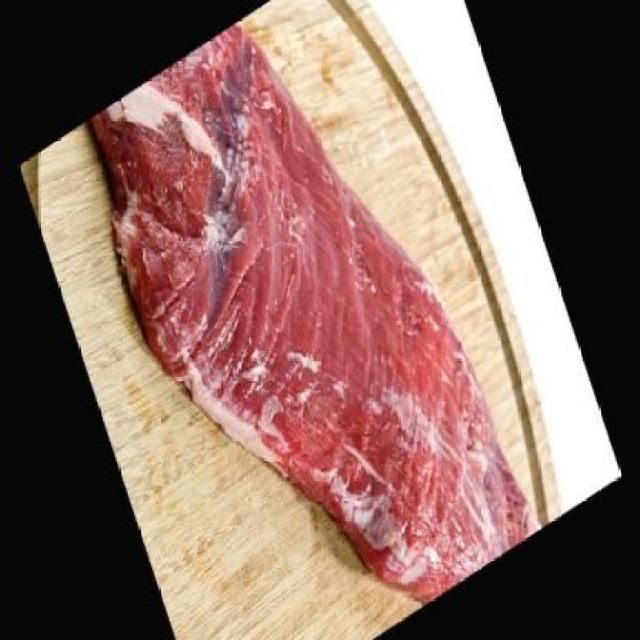beef: (70, 0, 547, 638)
